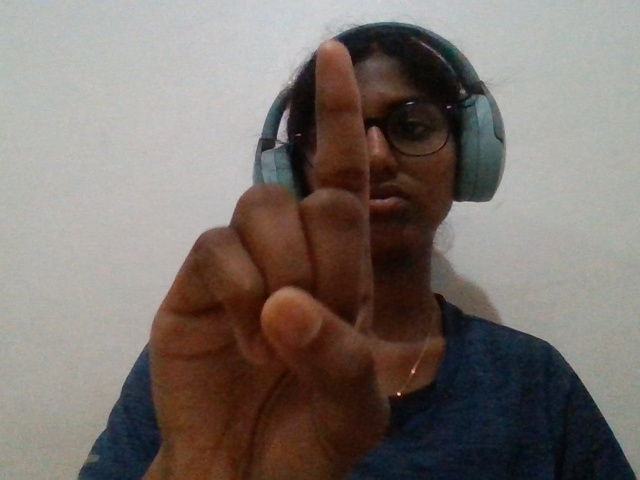D: (95, 27, 424, 480)
